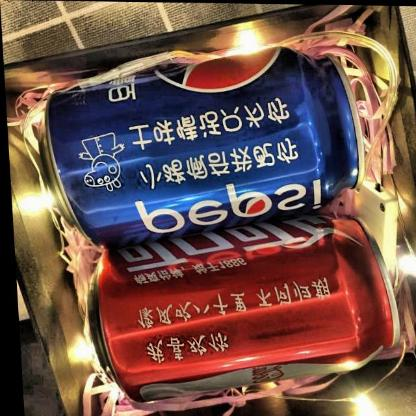Can: (31, 42, 375, 256), (73, 197, 405, 415)
